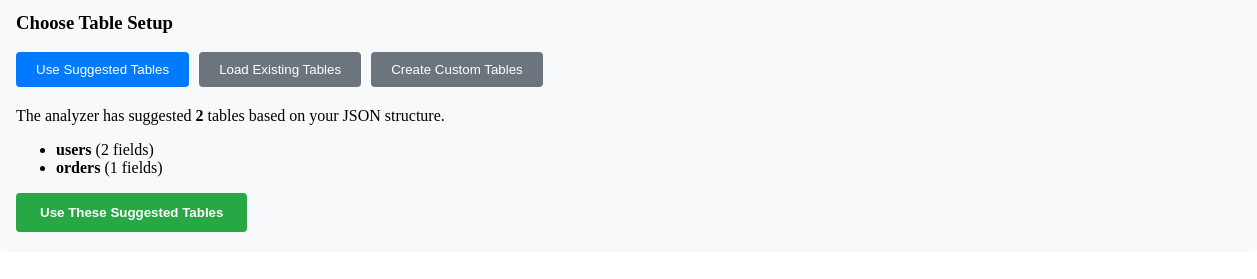
Test: TableSelector › should disable load button when no tables selected
This screenshot has width=1257, height=279.
Step 1. Click the button "Load Existing Tables" → (280, 70), box [199, 52, 361, 87]
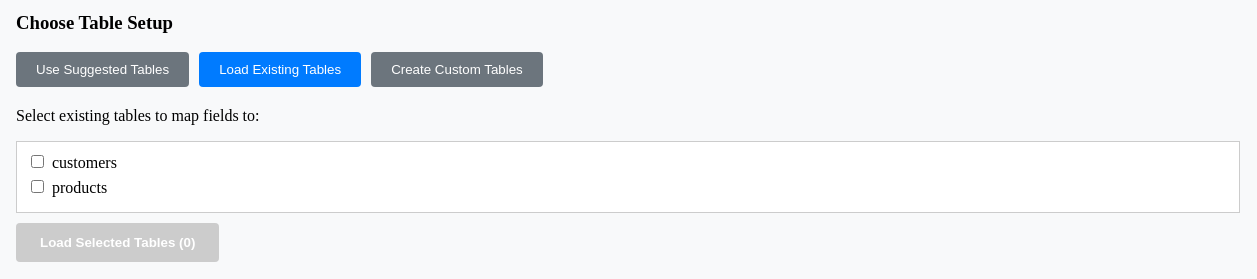
Result: the button "Load Selected Tables (0)" is disabled at [16, 223, 219, 262]
